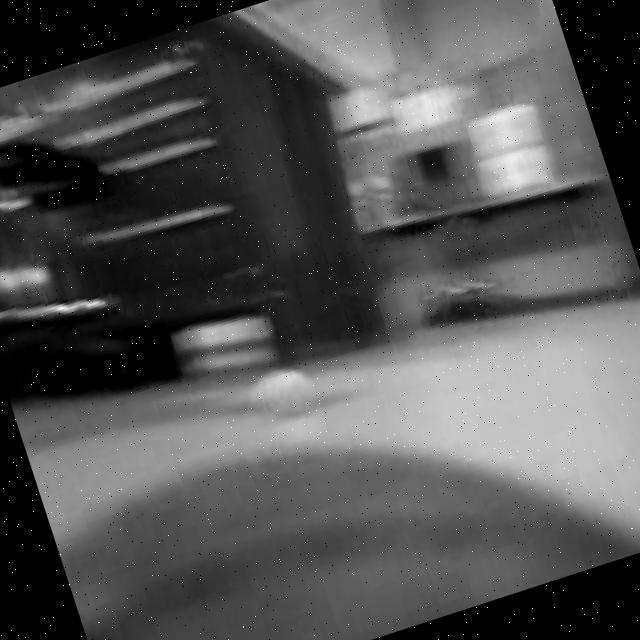ping-pong-ball: (253, 351, 326, 430)
